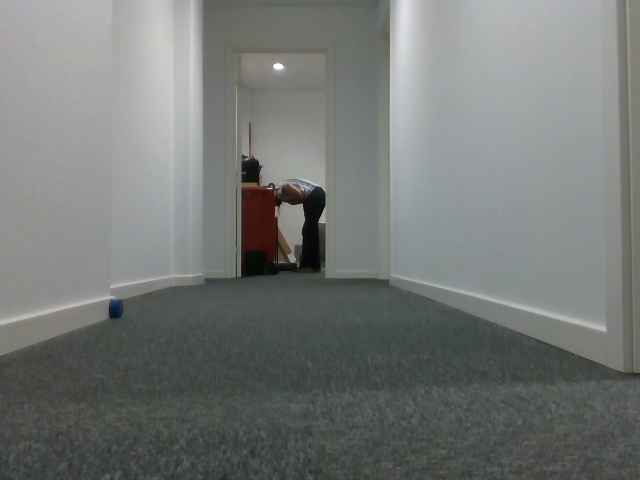alfa: (107, 296, 124, 320)
